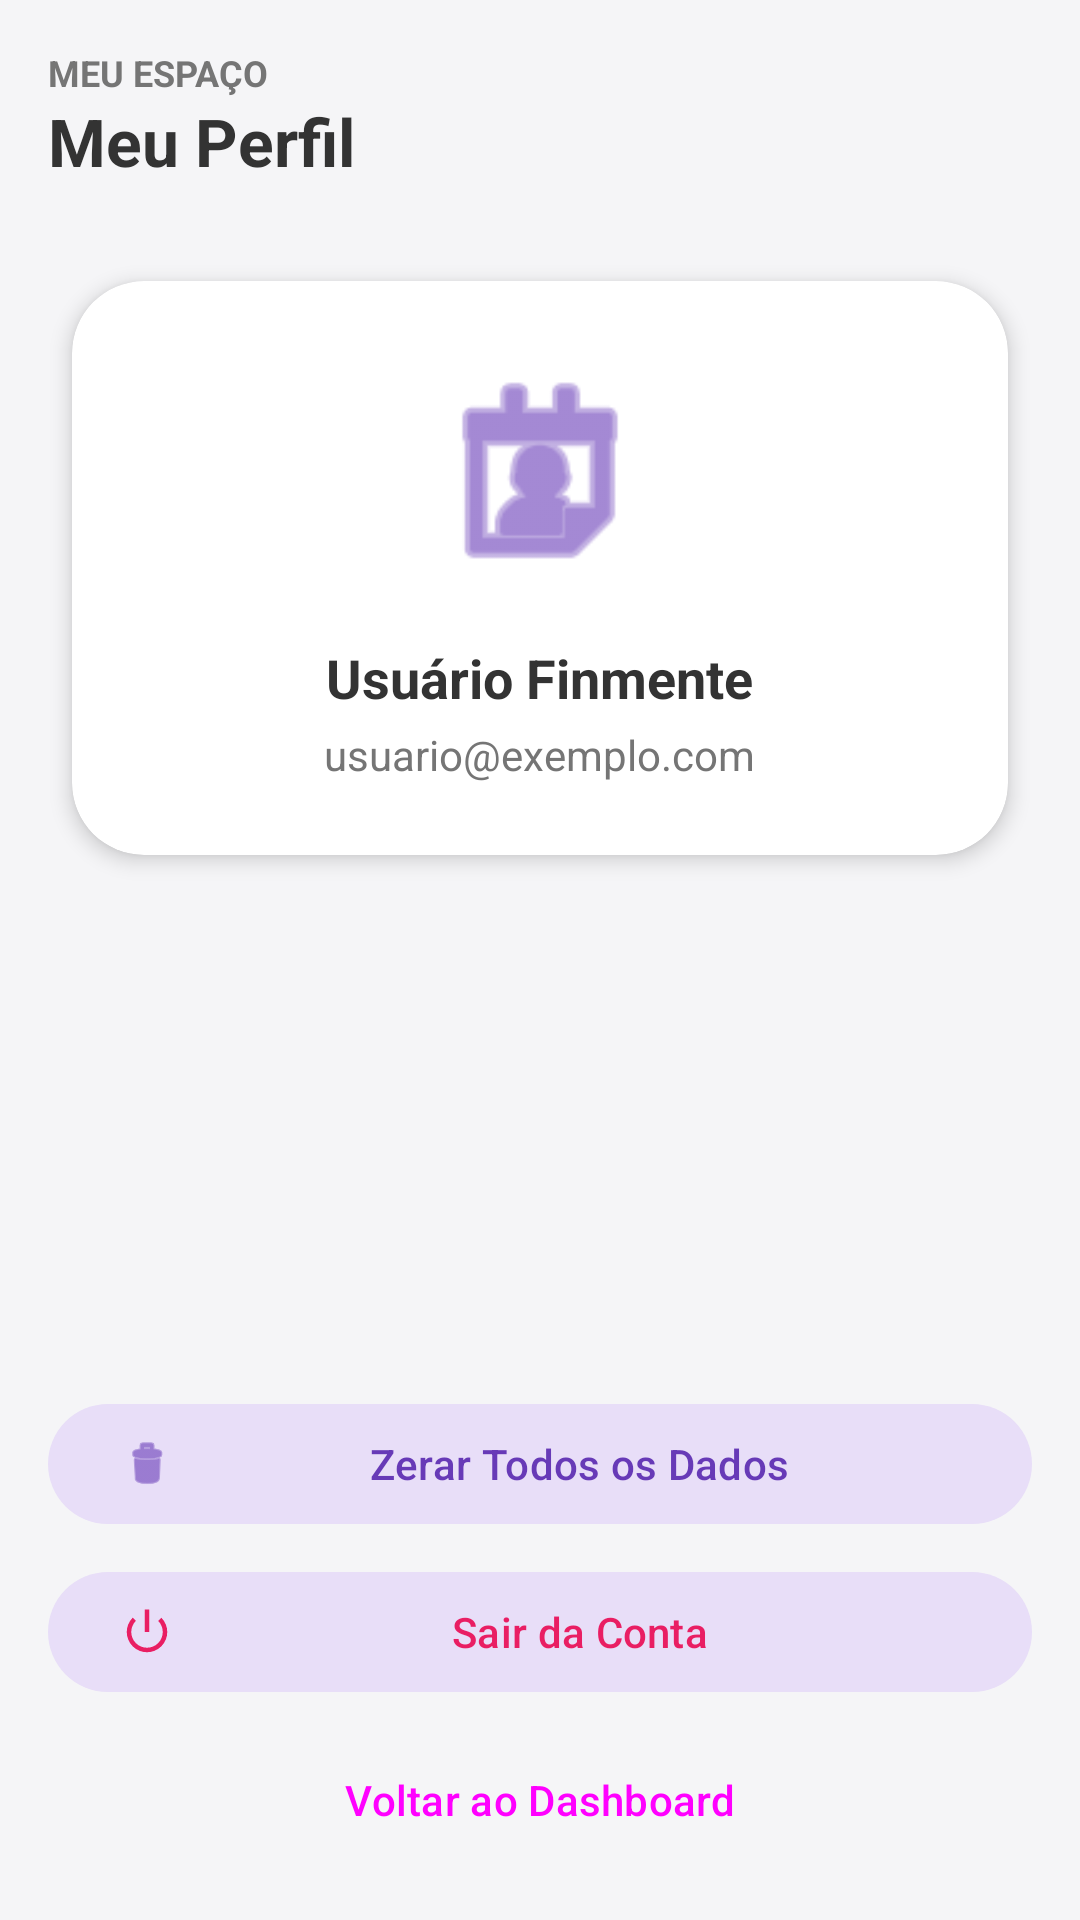

Screen size 1080 x 1920. Icon name, then its box in pixels as (x1=x1, y1=y1, x2=x2, y2=y2):
calendar: (x1=462, y1=383, x2=618, y2=558)
